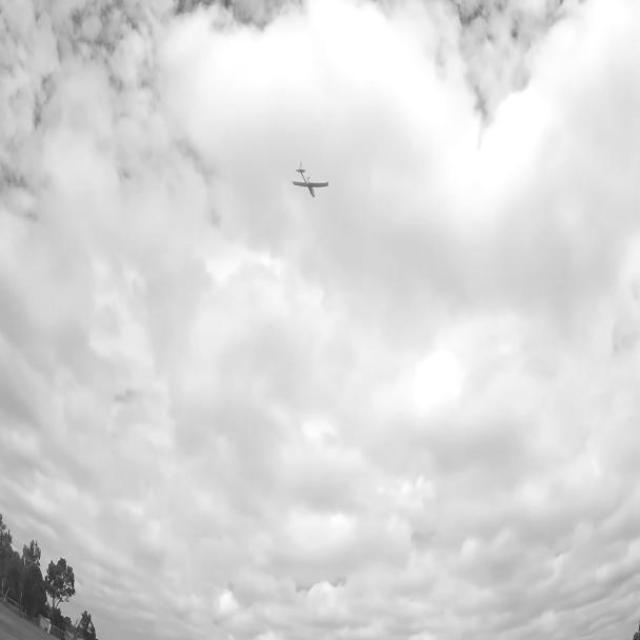iha: (286, 162, 328, 197)
